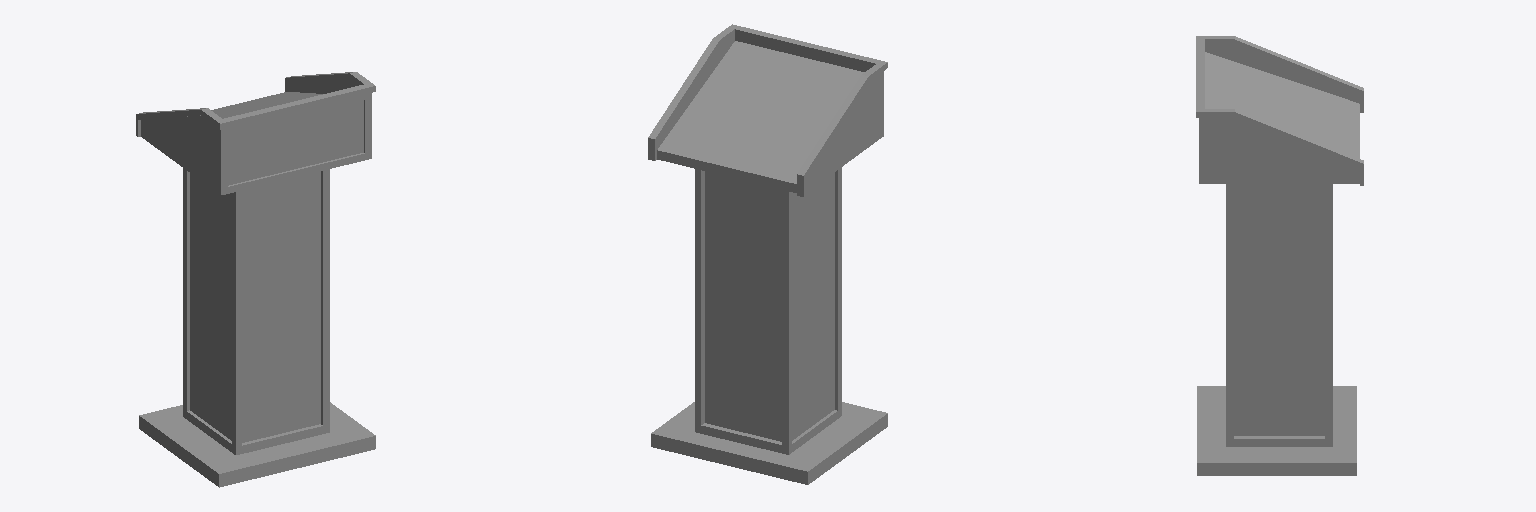
File: PreacherStand.obj
3 renders of one model, left to right at view 1: azimuth 30°, elevation 25°; view 2: azimuth 150°, elevation 25°; view 3: azimuth 270°, elevation 25°, orthographic.
Parts seen in each view (by area): view 1: PreacherStand; view 2: PreacherStand; view 3: PreacherStand.
Part boxes in pixels (x1,y1,x2,y2): PreacherStand: (136, 72, 375, 487); PreacherStand: (648, 24, 887, 484); PreacherStand: (1196, 36, 1363, 475).
Size of the model in its own units: 0.6941 by 1.54 by 0.6445.